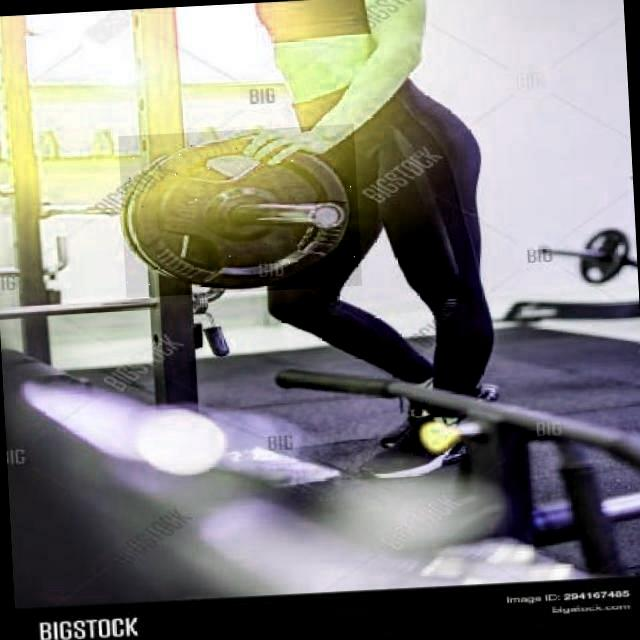barbell: (118, 125, 362, 298)
